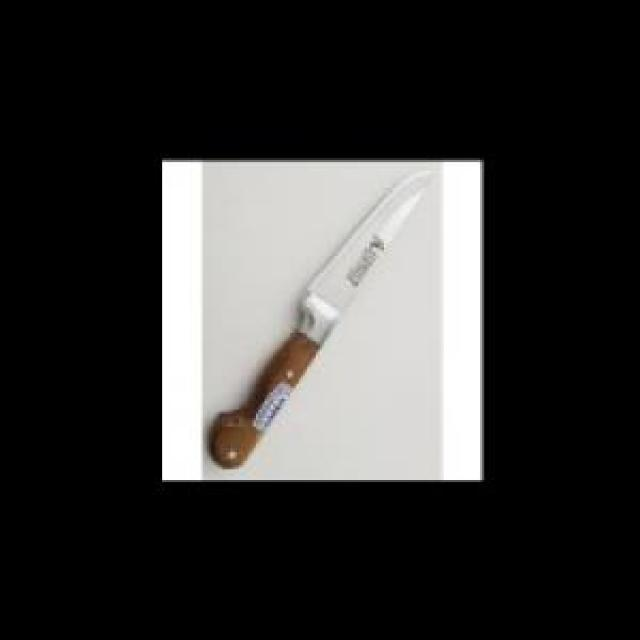knife: (207, 162, 445, 474)
